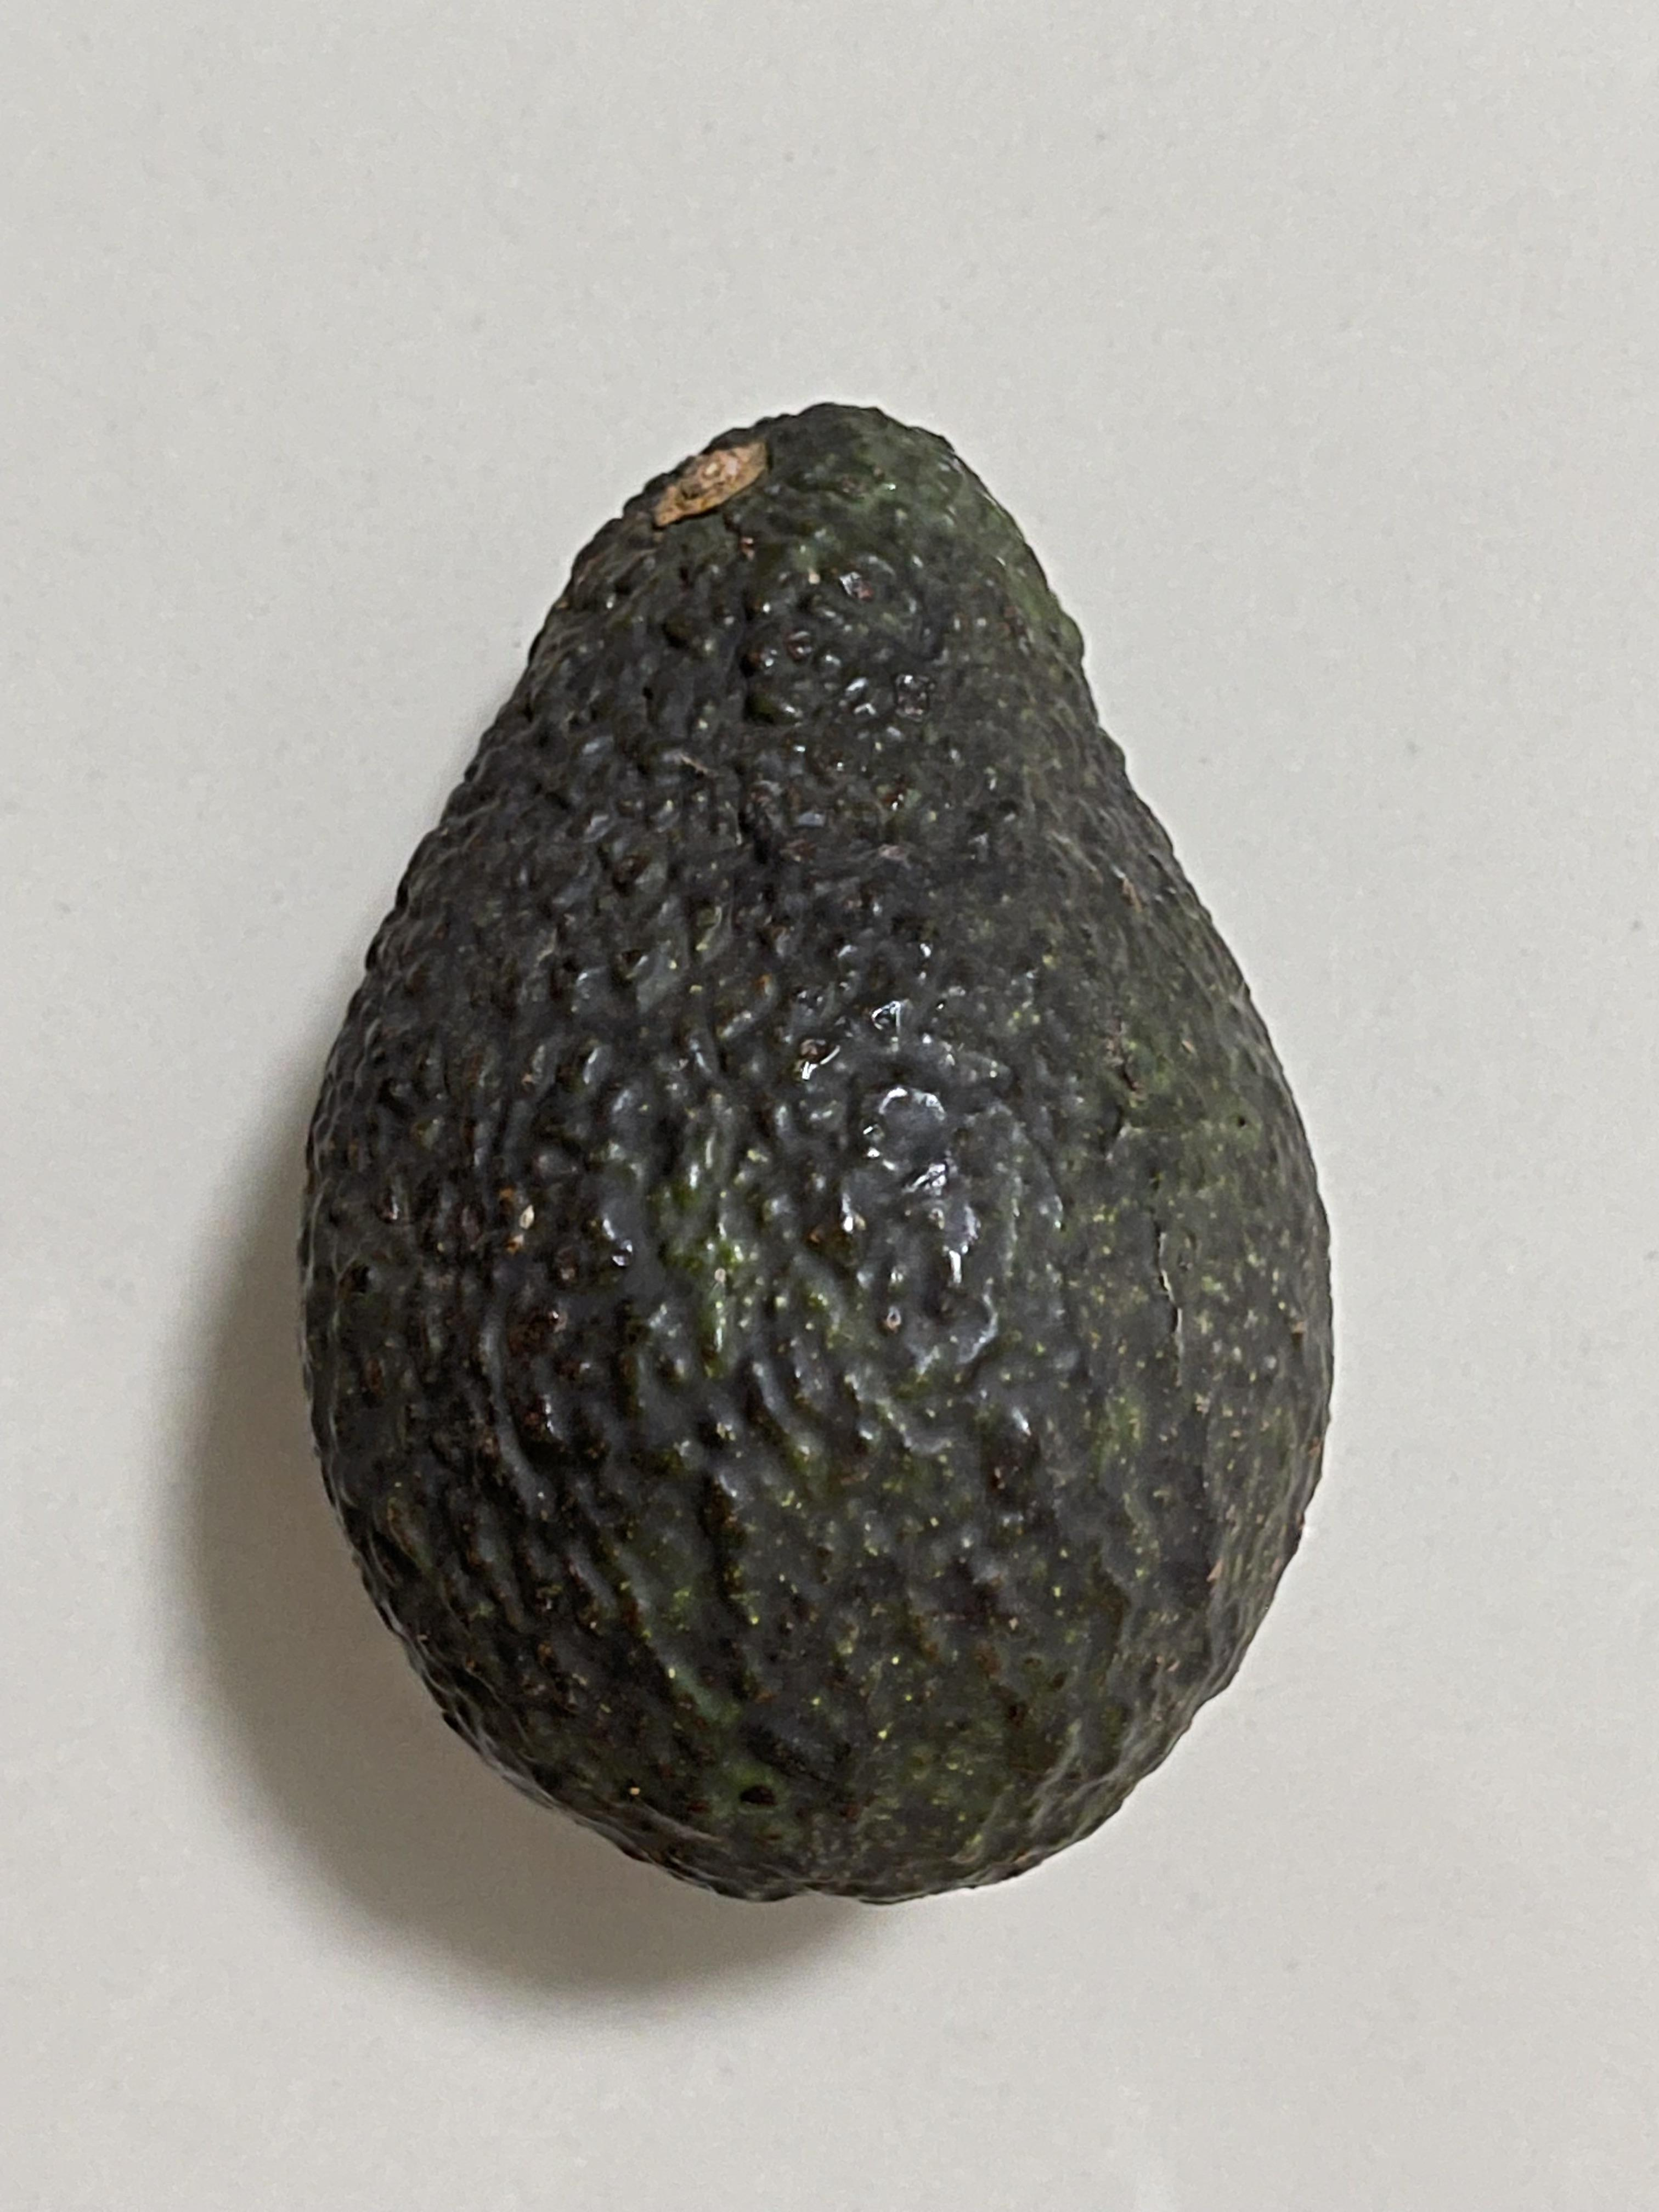Level1: (274, 340, 1378, 1963)
